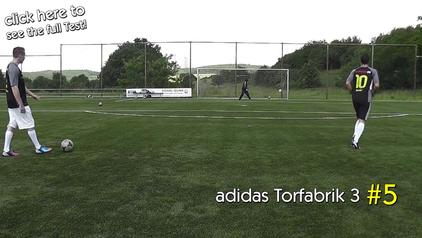walk: (3, 54, 40, 165), (349, 52, 377, 142)
